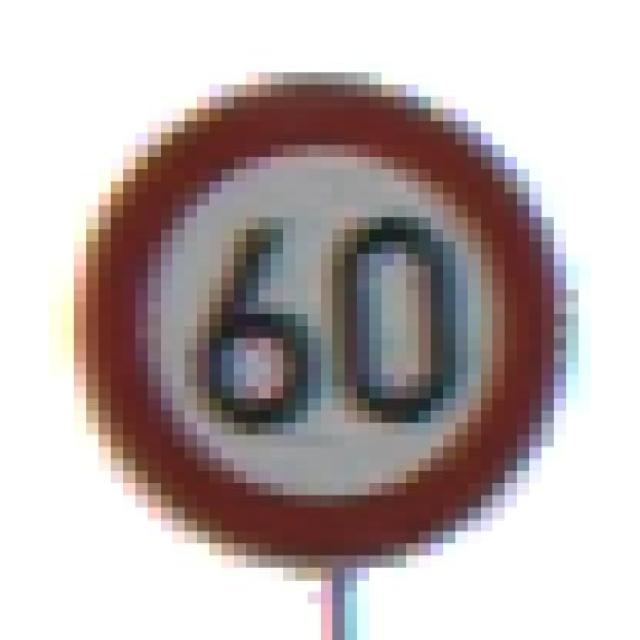forb_speed_over_60: (87, 84, 550, 555)
